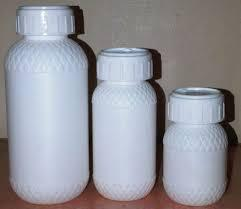Container for household chemicals: (4, 5, 95, 201), (89, 39, 168, 197)
